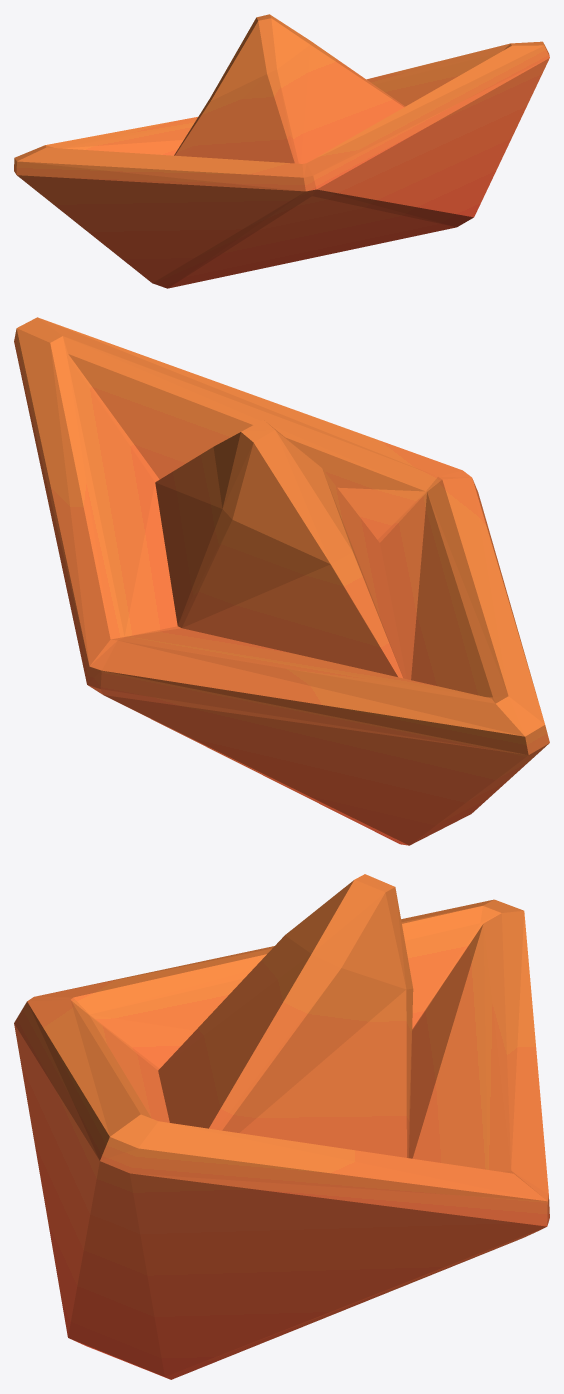
Rendered from CharSkyKid_Horn_AP20MessageBoat.glb.
3 renders of one model, top to bottom at view 1: azimuth 30°, elevation 25°; view 2: azimuth 150°, elevation 25°; view 3: azimuth 270°, elevation 25°, orthographic. The views are drawn at different scales.
Parts seen in each view (by area): view 1: CharSkyKid_Horn_AP20MessageBoat; view 2: CharSkyKid_Horn_AP20MessageBoat; view 3: CharSkyKid_Horn_AP20MessageBoat.
Part boxes in pixels (x1,y1,x2,y2): CharSkyKid_Horn_AP20MessageBoat: [14, 14, 549, 288]; CharSkyKid_Horn_AP20MessageBoat: [14, 317, 549, 845]; CharSkyKid_Horn_AP20MessageBoat: [14, 874, 549, 1379].
Bounding box in the file's own units: 2.48 × 1.31 × 1.37.
Materials: 1 (1 with a texture image).
